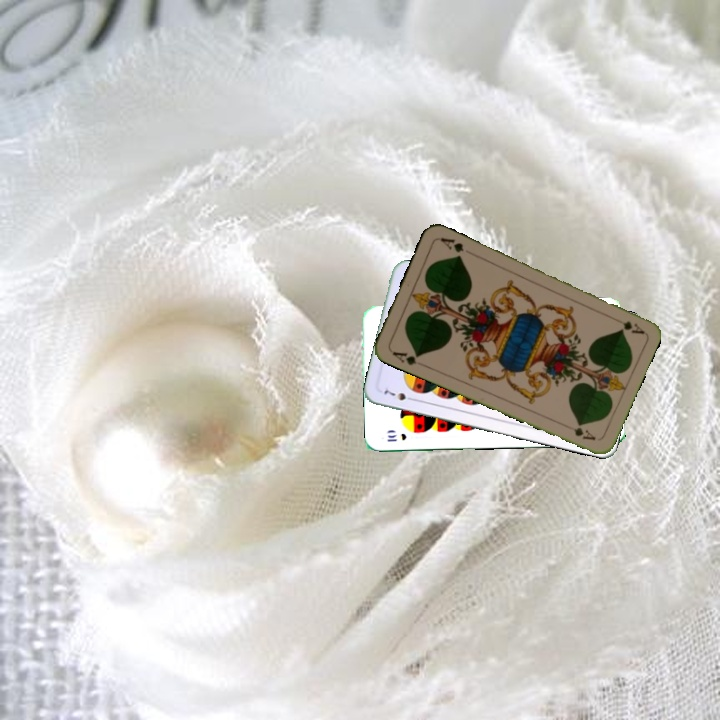GA: (608, 313, 646, 337), (388, 347, 423, 368)
S10: (383, 429, 409, 444)
S7: (380, 386, 418, 403)
